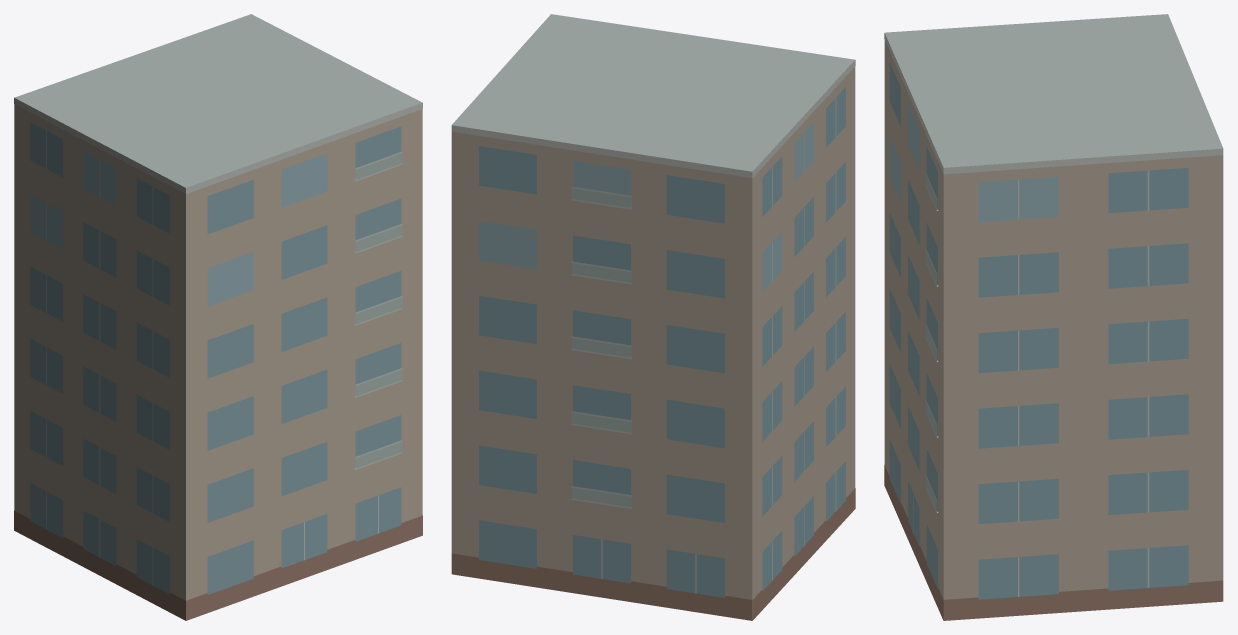
File: survey-upis-32739634.glb
3 renders of one model, left to right at view 1: azimuth 30°, elevation 25°; view 2: azimuth 150°, elevation 25°; view 3: azimuth 270°, elevation 25°, orthographic. The views are drawn at different scales.
Parts seen in each view (by area): view 1: survey-upis-32739634.tmp; view 2: survey-upis-32739634.tmp; view 3: survey-upis-32739634.tmp.
Part boxes in pixels (<box>): survey-upis-32739634.tmp: <box>14,14,422,620</box>; survey-upis-32739634.tmp: <box>451,14,855,620</box>; survey-upis-32739634.tmp: <box>884,14,1223,620</box>.
Bounding box in the file's own units: 12.4 × 17 × 11.54.
